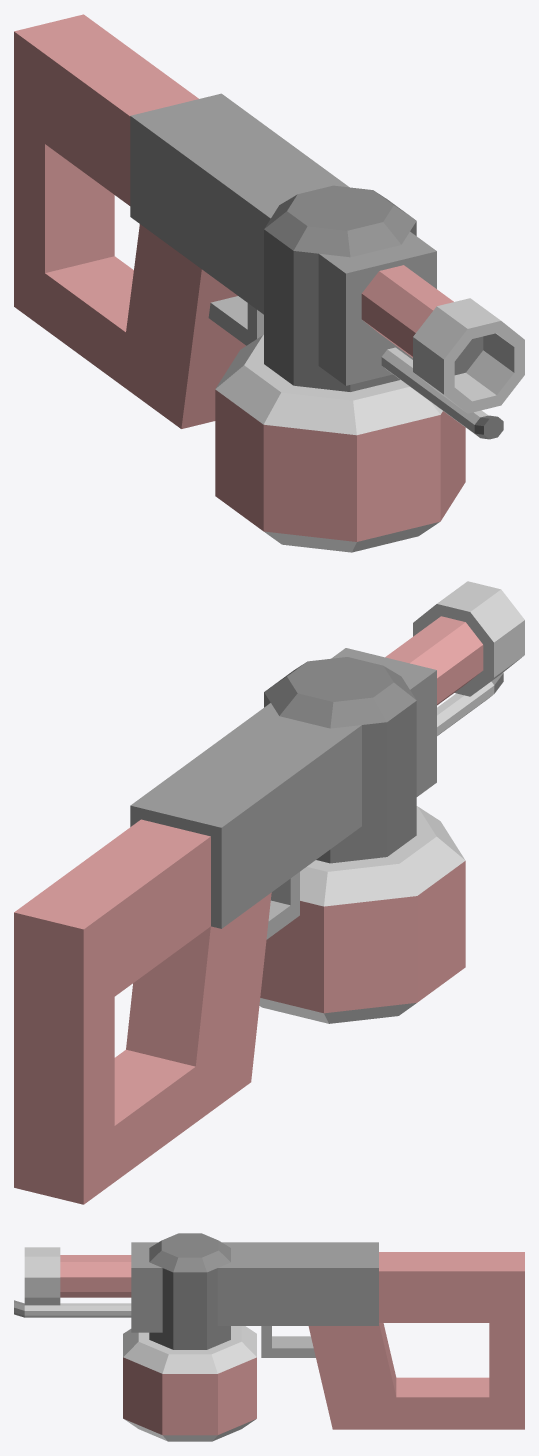
File: flamethrower.glb
3 renders of one model, top to bottom at view 1: azimuth 30°, elevation 25°; view 2: azimuth 150°, elevation 25°; view 3: azimuth 270°, elevation 25°, orthographic. The views are drawn at different scales.
Parts seen in each view (by area): view 1: Mesh1 Group2 Group1 Model, Mesh2 Group3 Group1 Model; view 2: Mesh1 Group2 Group1 Model, Mesh2 Group3 Group1 Model; view 3: Mesh1 Group2 Group1 Model, Mesh2 Group3 Group1 Model.
Part boxes in pixels (box(x1,y1,x2,y2)): Mesh1 Group2 Group1 Model: box(14, 14, 524, 439); Mesh2 Group3 Group1 Model: box(215, 335, 465, 552); Mesh1 Group2 Group1 Model: box(14, 581, 524, 1204); Mesh2 Group3 Group1 Model: box(259, 806, 465, 1023); Mesh1 Group2 Group1 Model: box(14, 1233, 524, 1429); Mesh2 Group3 Group1 Model: box(123, 1326, 256, 1441).
Size of the model in its own units: 0.0226 by 0.0324 by 0.0861.
